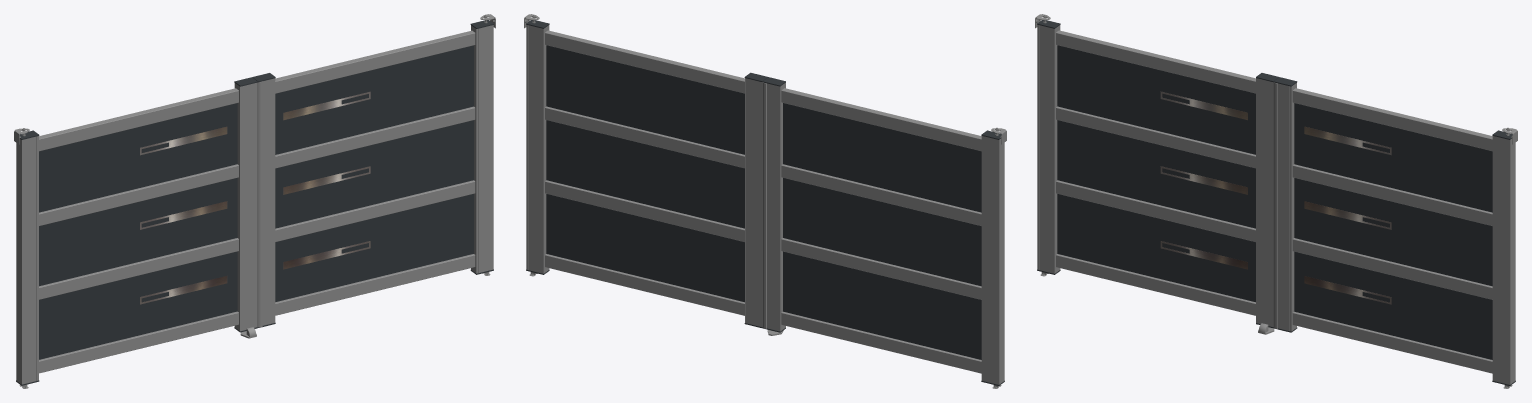
3 renders of one model, left to right at view 1: azimuth 30°, elevation 25°; view 2: azimuth 150°, elevation 25°; view 3: azimuth 330°, elevation 25°, orthographic.
Parts seen in each view (by area): view 1: Box2393, Box2392, Shape107412643, Shape107412644, Shape107412971, Shape107412972, Shape107412911, Shape107412904, Shape107412910, Shape107412908, Shape107412909, Shape107412905 (+5 smaller); view 2: Box2392, Box2393, Shape107412643, Shape107412971, Shape107412972, Shape107412644, Shape107412904, Shape107412911, Shape107412905, Shape107412906, Shape107412907, Shape107412909 (+3 smaller); view 3: Box2393, Box2392, Shape107412971, Shape107412643, Shape107412644, Shape107412972, Shape107412911, Shape107412904, Shape107412910, Shape107412908, Shape107412909, Shape107412905 (+5 smaller).
Boxes of the visible parts, x1,y1,x2,y2 form: Box2393: [275, 45, 473, 301]; Box2392: [39, 103, 237, 359]; Shape107412643: [16, 136, 38, 384]; Shape107412644: [234, 83, 257, 331]; Shape107412971: [471, 25, 493, 273]; Shape107412972: [259, 78, 275, 325]; Shape107412911: [275, 30, 475, 93]; Shape107412904: [39, 88, 238, 151]; Shape107412910: [275, 254, 475, 315]; Shape107412908: [275, 180, 475, 241]; Shape107412909: [275, 106, 475, 168]; Shape107412905: [39, 311, 238, 373]; Box2392: [783, 103, 981, 359]; Box2393: [546, 45, 744, 302]; Shape107412643: [981, 136, 1004, 384]; Shape107412971: [526, 24, 549, 273]; Shape107412972: [745, 78, 762, 326]; Shape107412644: [764, 82, 785, 331]; Shape107412904: [781, 88, 981, 151]; Shape107412911: [545, 30, 744, 93]; Shape107412905: [781, 311, 981, 373]; Shape107412906: [781, 164, 981, 225]; Shape107412907: [781, 238, 981, 299]; Shape107412909: [545, 106, 744, 168]; Box2393: [1294, 103, 1492, 359]; Box2392: [1057, 45, 1255, 302]; Shape107412971: [1492, 136, 1515, 384]; Shape107412643: [1037, 24, 1060, 273]; Shape107412644: [1256, 78, 1273, 326]; Shape107412972: [1275, 82, 1296, 331]; Shape107412911: [1292, 88, 1492, 151]; Shape107412904: [1056, 30, 1255, 93]; Shape107412910: [1292, 311, 1492, 373]; Shape107412908: [1292, 238, 1492, 299]; Shape107412909: [1292, 164, 1492, 225]; Shape107412905: [1056, 254, 1255, 315].
Size of the model in its own units: 3259 by 1693 by 116.
Materials: 9 (4 with a texture image).
